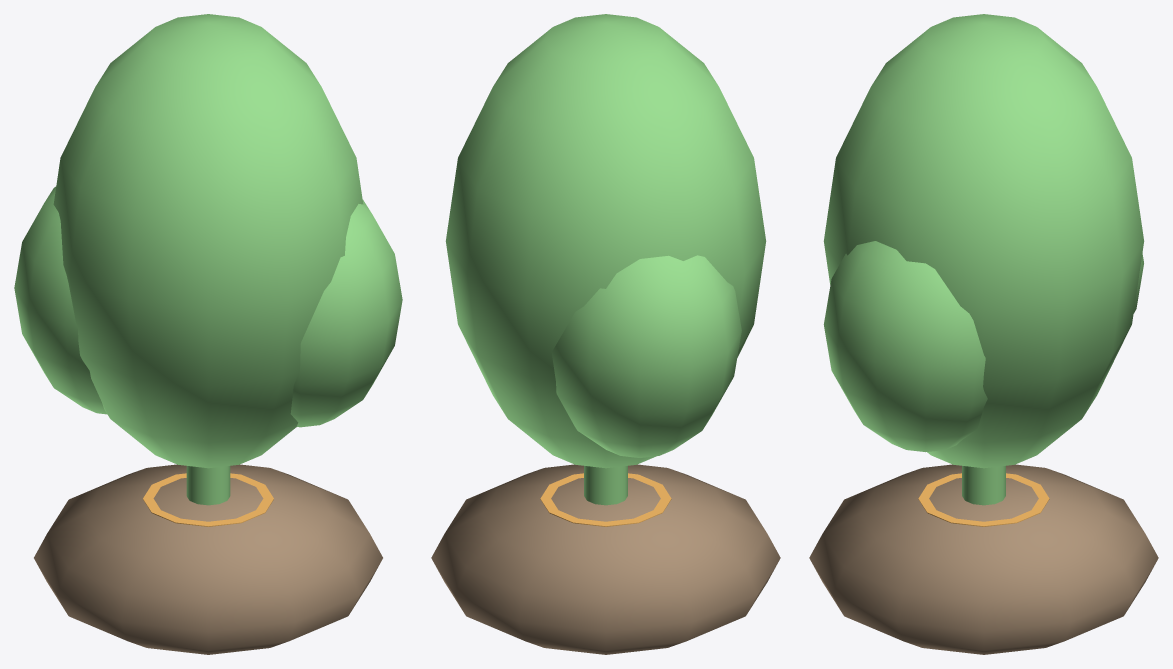
The model's file is crop_carrot_mature.glb.
3 renders of one model, left to right at view 1: azimuth 30°, elevation 25°; view 2: azimuth 150°, elevation 25°; view 3: azimuth 270°, elevation 25°, orthographic.
Parts seen in each view (by area): view 1: Crop_Carrot_Mature; view 2: Crop_Carrot_Mature; view 3: Crop_Carrot_Mature.
Boxes of the visible parts, x1,y1,x2,y2 form: Crop_Carrot_Mature: (14, 14, 402, 654); Crop_Carrot_Mature: (431, 14, 780, 654); Crop_Carrot_Mature: (809, 14, 1158, 654).
Bounding box in the file's own units: 0.24 × 0.453 × 0.24.
